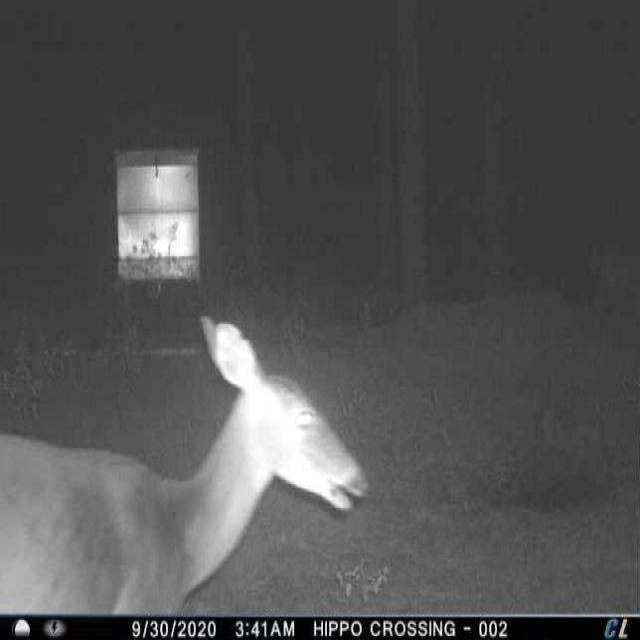deer: (2, 314, 372, 618)
